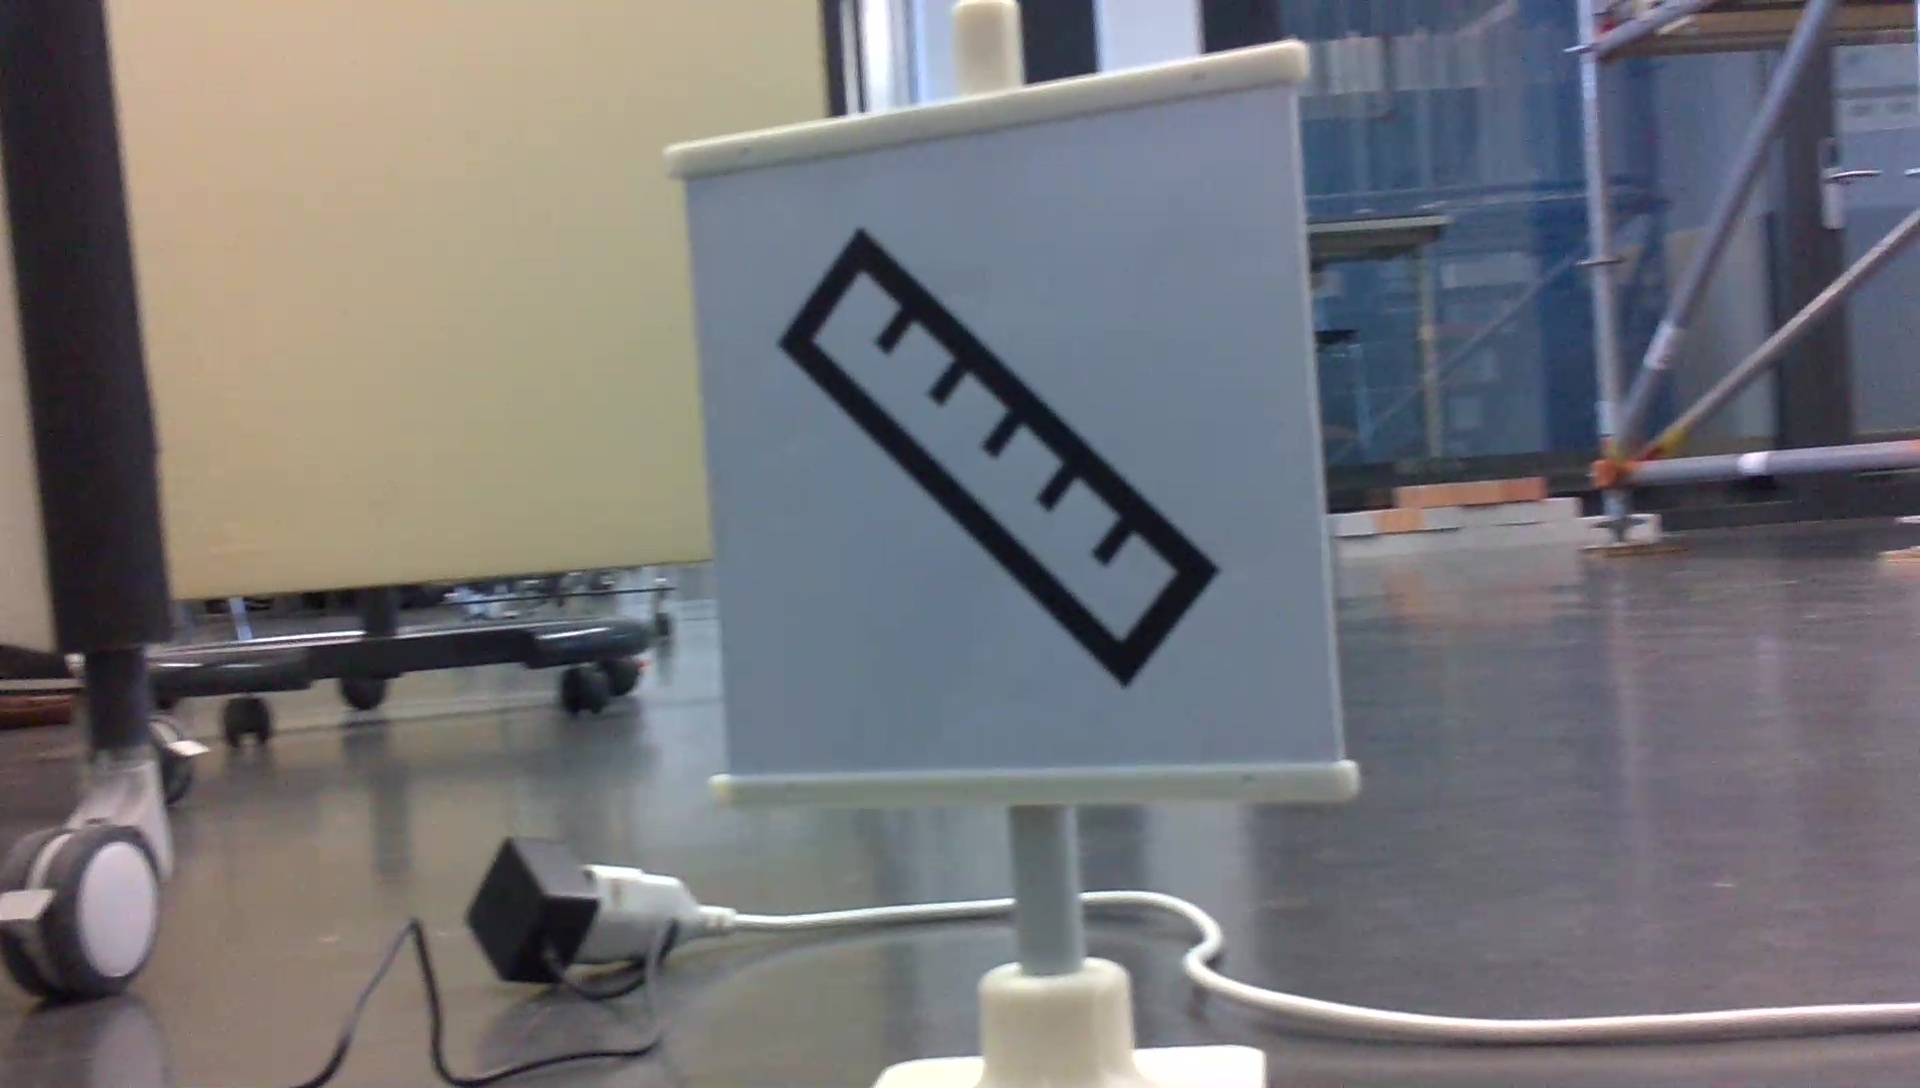ruler: (777, 220, 1240, 688)
